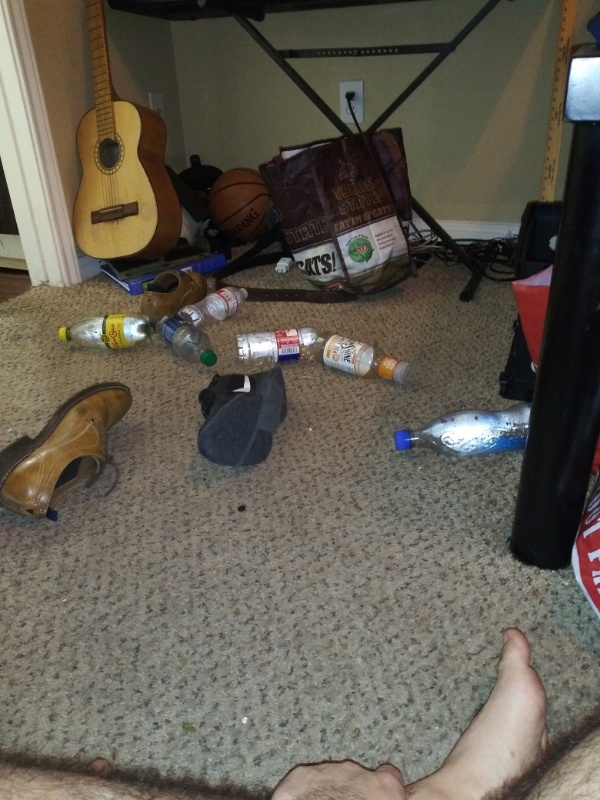bottle: (392, 396, 545, 468), (306, 328, 415, 389), (230, 322, 334, 368), (54, 311, 153, 357), (153, 310, 218, 370), (175, 283, 251, 334)
